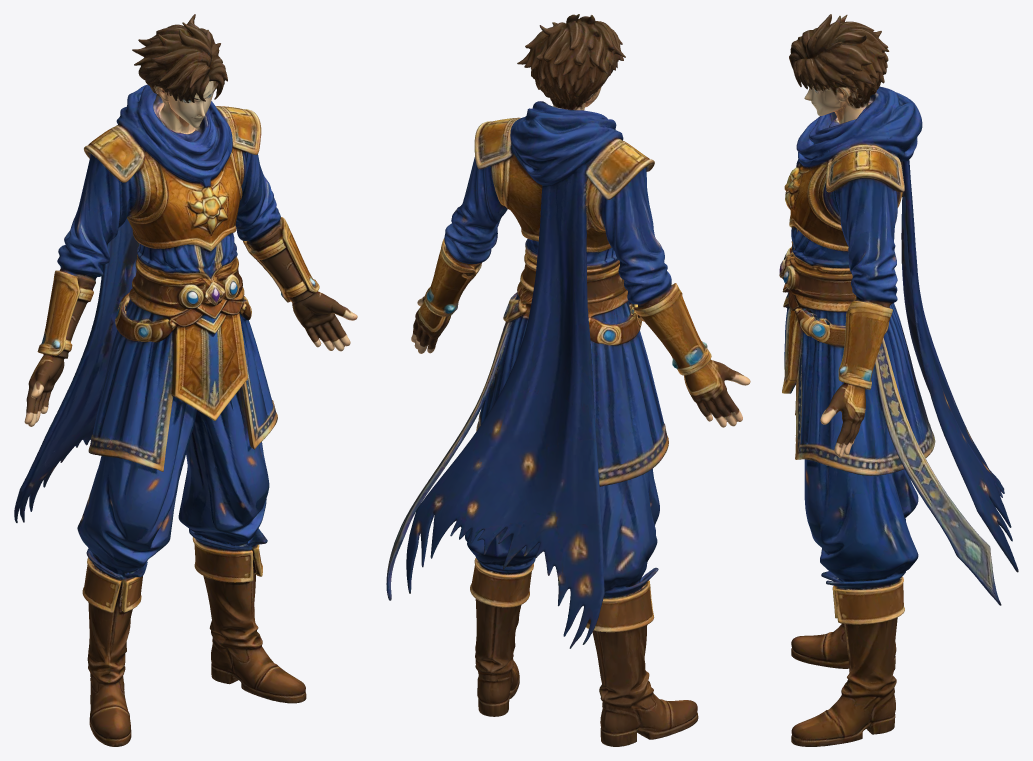
Rendered from sun_knight.glb.
3 views of the same model, side by side, from view 1: azimuth 30°, elevation 25°; view 2: azimuth 150°, elevation 25°; view 3: azimuth 270°, elevation 25° (orthographic). The views are drawn at different scales.
Size of the model in its own units: 0.9459 by 1.9 by 0.6045.
1 material, 1 textured.
